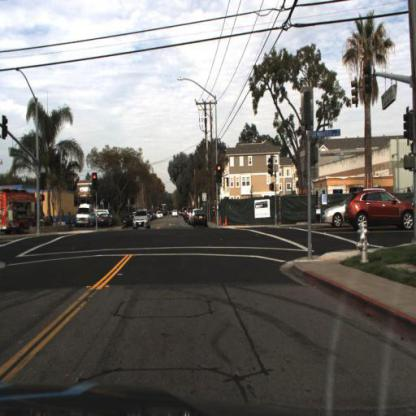car: (348, 187, 416, 236), (322, 200, 349, 226), (76, 204, 93, 229), (191, 207, 211, 228), (132, 208, 150, 230), (192, 211, 211, 228), (98, 210, 113, 230)
trafficLight: (217, 165, 224, 184)
trafficLight-Red: (91, 172, 100, 192)
truck: (1, 190, 46, 236), (1, 184, 43, 233)
